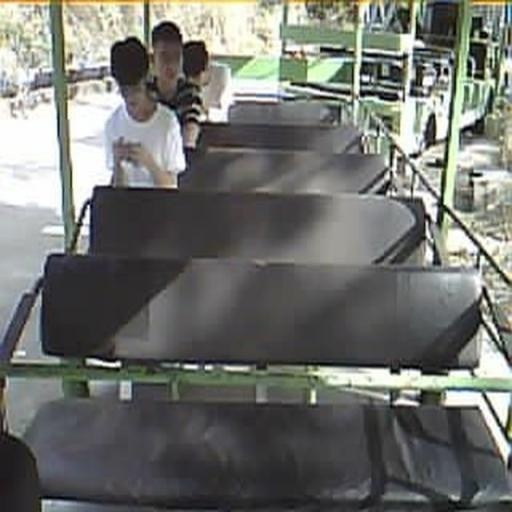persona: (102, 35, 187, 189), (145, 20, 208, 171), (178, 37, 234, 124)
